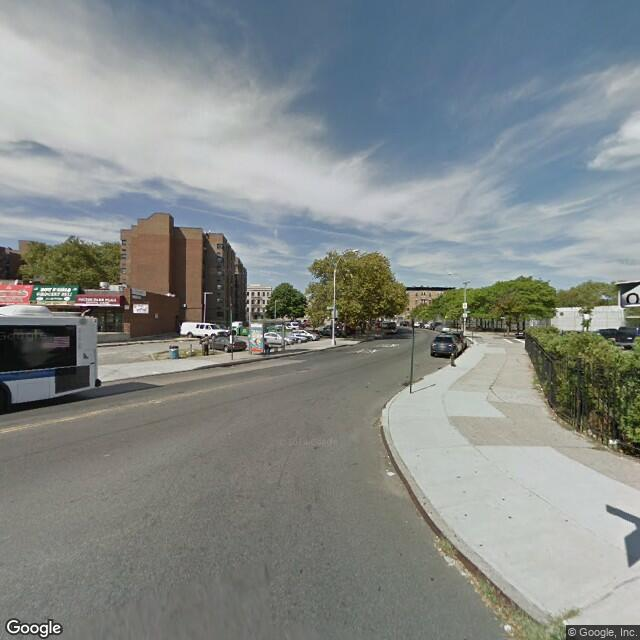litter: (381, 460, 401, 484)
